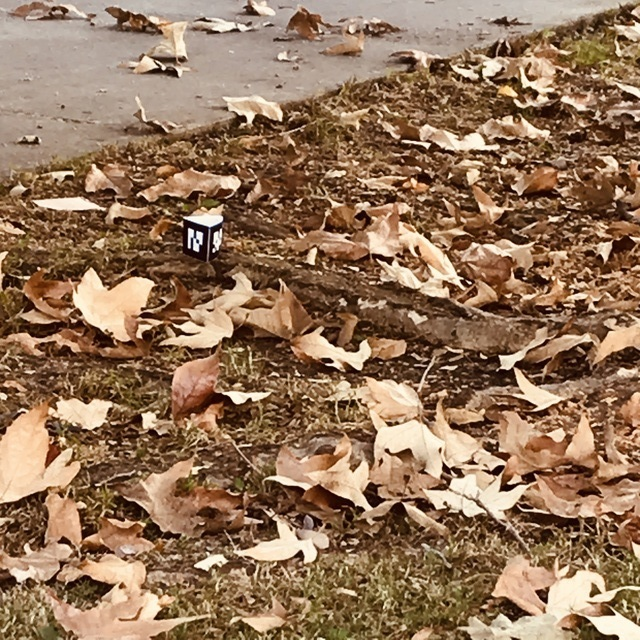ARTag: (182, 215, 223, 263)
